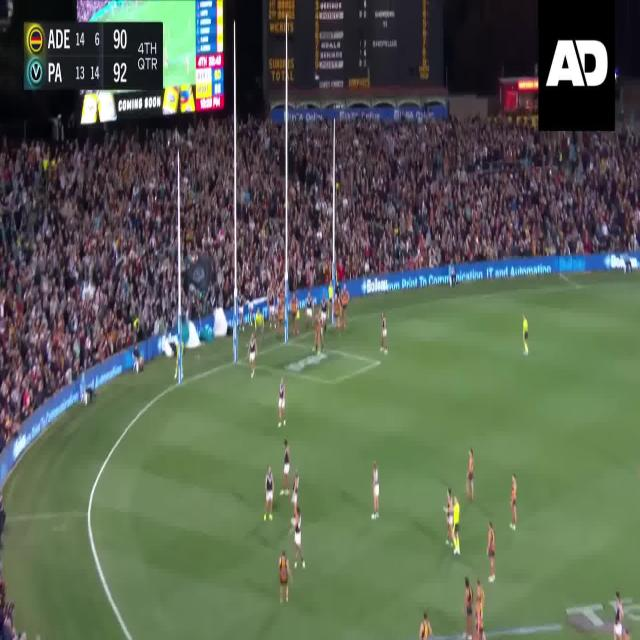crowd: (0, 128, 177, 451), (337, 114, 640, 277), (179, 122, 235, 321), (237, 119, 284, 305), (287, 121, 333, 293)
